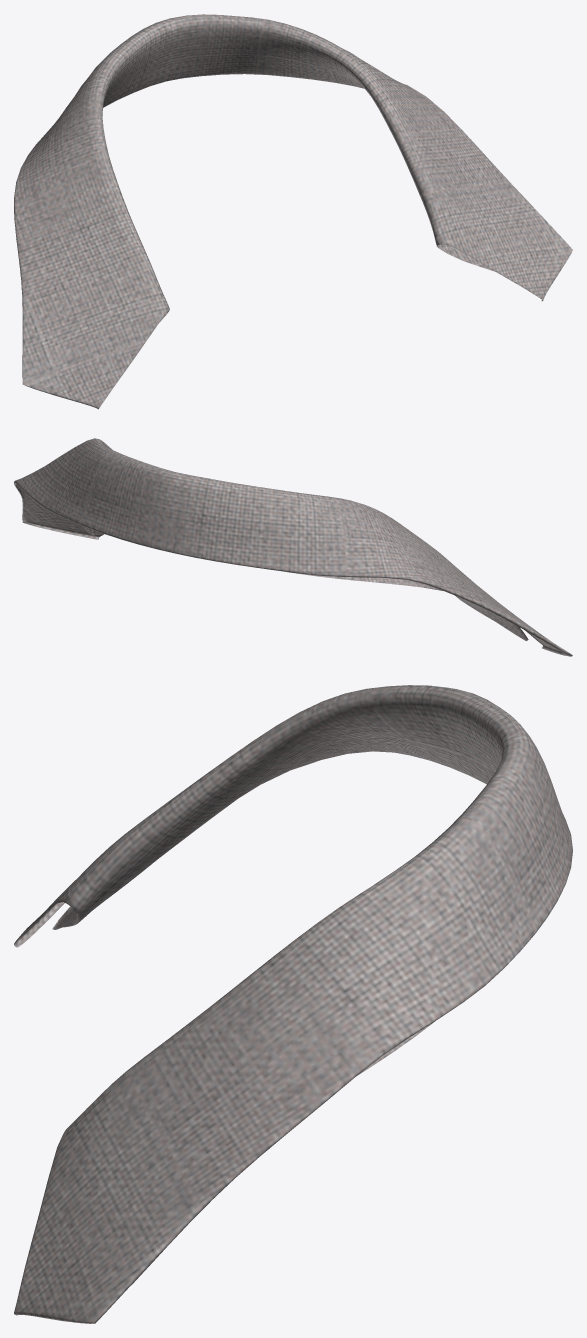
Rendered from peak_collar.glb.
3 renders of one model, top to bottom at view 1: azimuth 30°, elevation 25°; view 2: azimuth 150°, elevation 25°; view 3: azimuth 270°, elevation 25°, orthographic. The views are drawn at different scales.
Visible parts, largest first — view 1: peak_collar1; view 2: peak_collar1; view 3: peak_collar1.
Part boxes in pixels (x1,y1,x2,y2): peak_collar1: [14, 14, 572, 409]; peak_collar1: [14, 438, 572, 656]; peak_collar1: [14, 685, 572, 1323].
Size of the model in its own units: 0.0398 by 0.0158 by 0.0206.
Materials: 1 (1 with a texture image).
